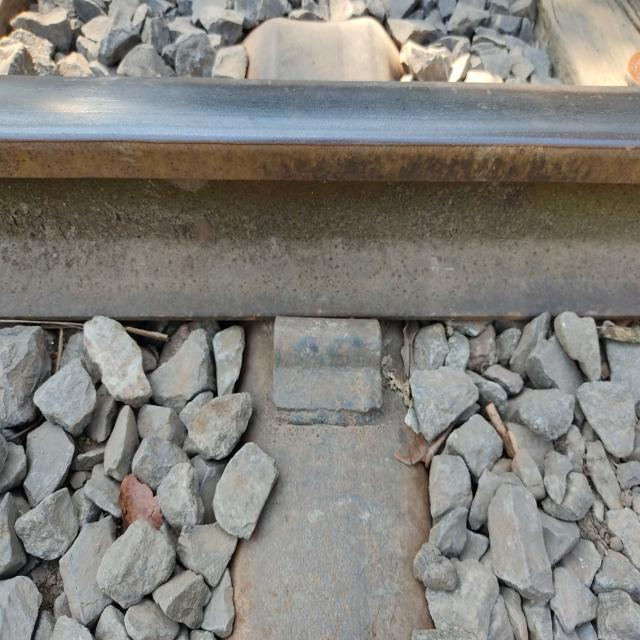Faults: (264, 303, 392, 435)
